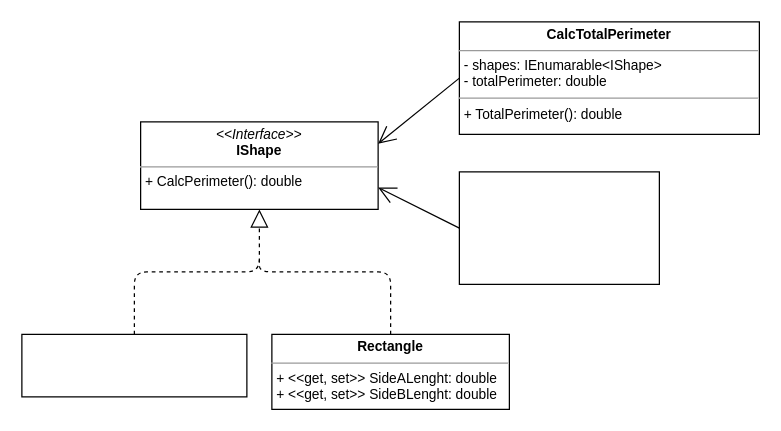
Some shapes in this 781 by 431 pixel diagram are drawn without their labels. The shapes that lost their labels are listed below. From the top down, each one's centre as x and y in pixels, then its label:
(558,227): PrintResult + <<get, set>> Result: string + ToConsole(): void + ToFile(): void
(134,365): Square + << get , set >> SideLenght: double
